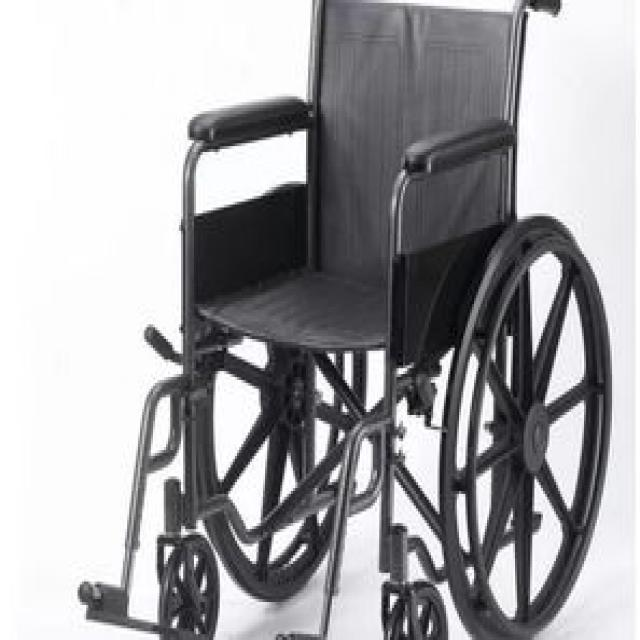wheelchair: (32, 0, 614, 637)
